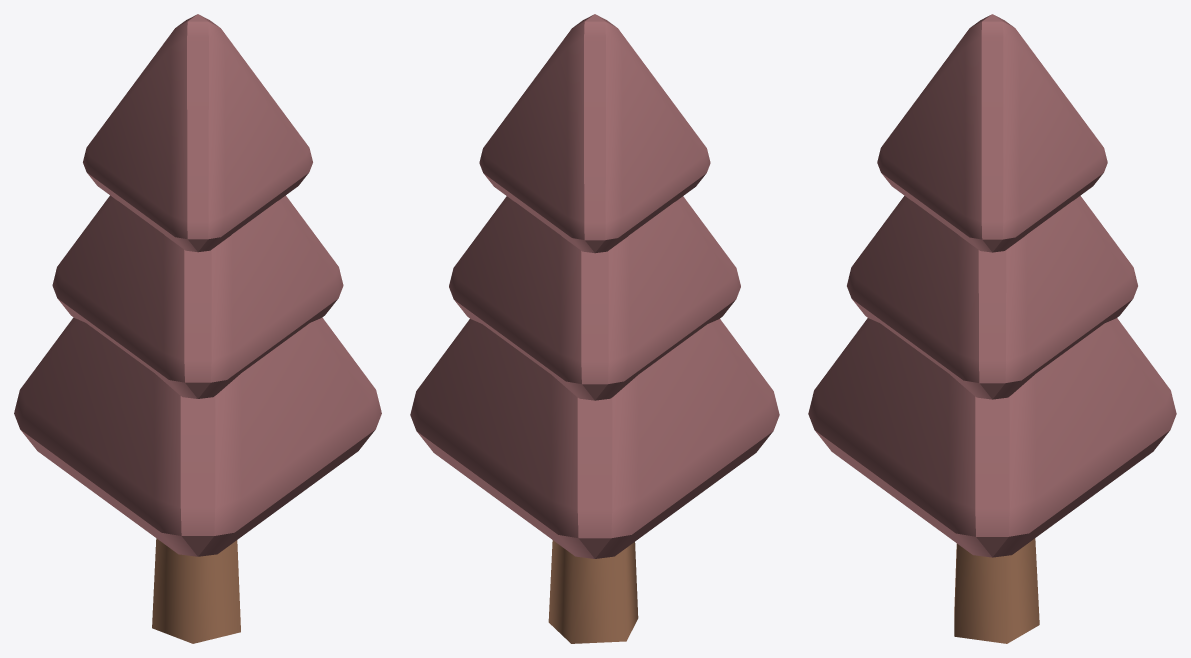
3 renders of one model, left to right at view 1: azimuth 30°, elevation 25°; view 2: azimuth 150°, elevation 25°; view 3: azimuth 270°, elevation 25°, orthographic.
Visible parts, largest first — view 1: pCone29, pCone28, pCone27, polySurface156; view 2: pCone29, pCone28, pCone27, polySurface156; view 3: pCone29, pCone28, pCone27, polySurface156.
Part boxes in pixels (<box>): pCone29: <box>14,317,381,556</box>; pCone28: <box>52,195,343,398</box>; pCone27: <box>83,14,312,252</box>; polySurface156: <box>152,538,240,643</box>; pCone29: <box>410,319,779,558</box>; pCone28: <box>449,196,740,400</box>; pCone27: <box>479,14,710,253</box>; polySurface156: <box>548,540,638,643</box>; pCone29: <box>808,318,1176,557</box>; pCone28: <box>847,196,1137,399</box>; pCone27: <box>877,14,1107,252</box>; polySurface156: <box>954,538,1039,643</box>.
Size of the model in its own units: 14.14 by 28.82 by 15.88.
